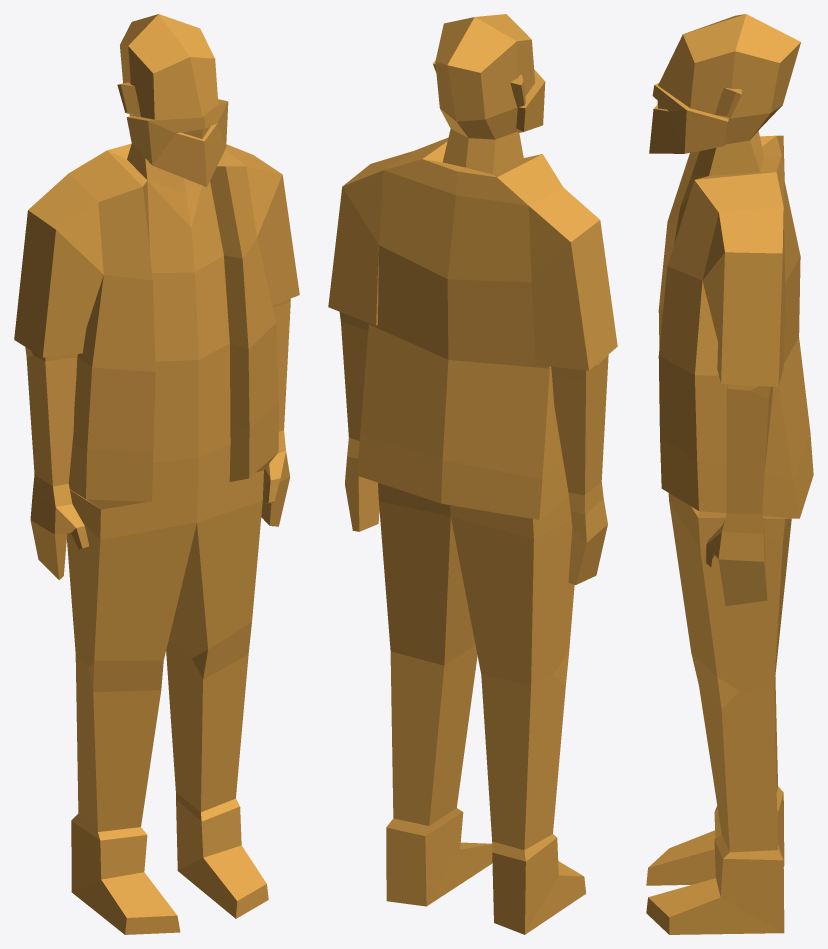
Rendered from man-pedestrian-rival.fbx.
The picture shows the model from 3 angles, left to right: view 1: azimuth 30°, elevation 25°; view 2: azimuth 150°, elevation 25°; view 3: azimuth 270°, elevation 25°; orthographic projection.
Parts seen in each view (by area): view 1: man-pedestrian-rival; view 2: man-pedestrian-rival; view 3: man-pedestrian-rival.
Part boxes in pixels (x1,y1,x2,y2): man-pedestrian-rival: [14, 14, 299, 934]; man-pedestrian-rival: [328, 14, 617, 934]; man-pedestrian-rival: [646, 14, 813, 934].
Size of the model in its own units: 0.557 by 1.81 by 0.3102.
